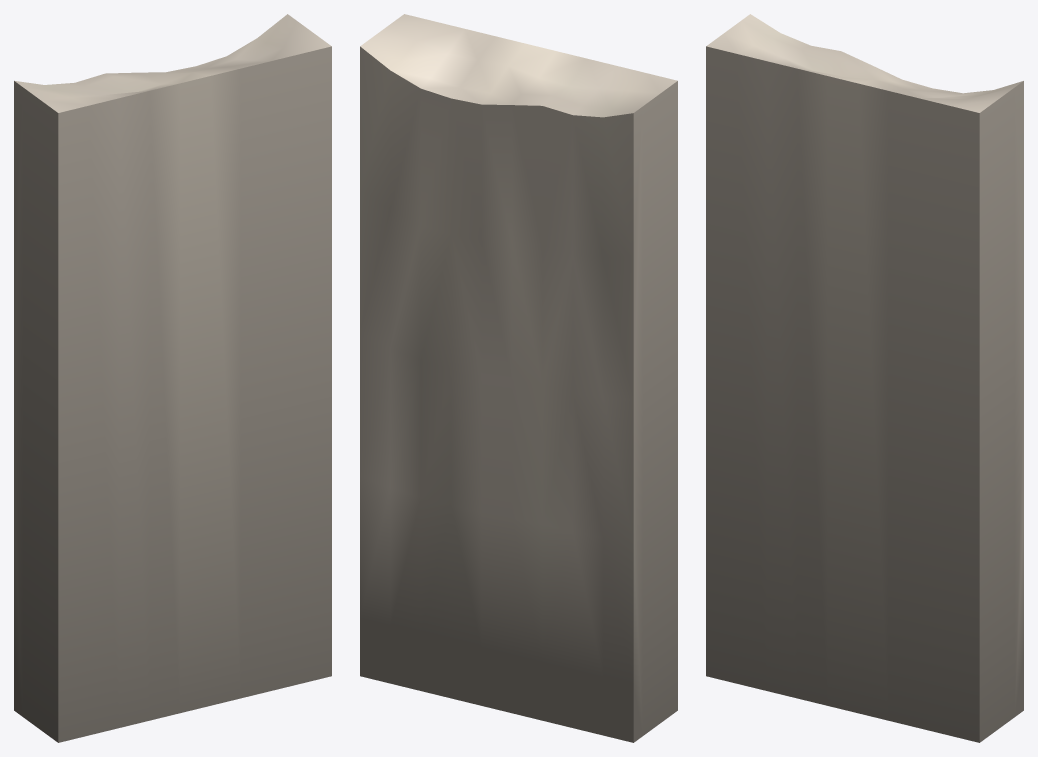
File: SM_VKI_Rock_Cave_FFOO_WallEW.fbx
3 renders of one model, left to right at view 1: azimuth 30°, elevation 25°; view 2: azimuth 150°, elevation 25°; view 3: azimuth 330°, elevation 25°, orthographic.
Visible parts, largest first — view 1: SM_VKI_Rock_Cave_FFOO_WallEW.001; view 2: SM_VKI_Rock_Cave_FFOO_WallEW.001; view 3: SM_VKI_Rock_Cave_FFOO_WallEW.001.
Part boxes in pixels (<box>): SM_VKI_Rock_Cave_FFOO_WallEW.001: <box>14,14,331,742</box>; SM_VKI_Rock_Cave_FFOO_WallEW.001: <box>360,14,677,742</box>; SM_VKI_Rock_Cave_FFOO_WallEW.001: <box>706,14,1023,742</box>.
Size of the model in its own units: 1.5 by 3.3 by 0.42.
